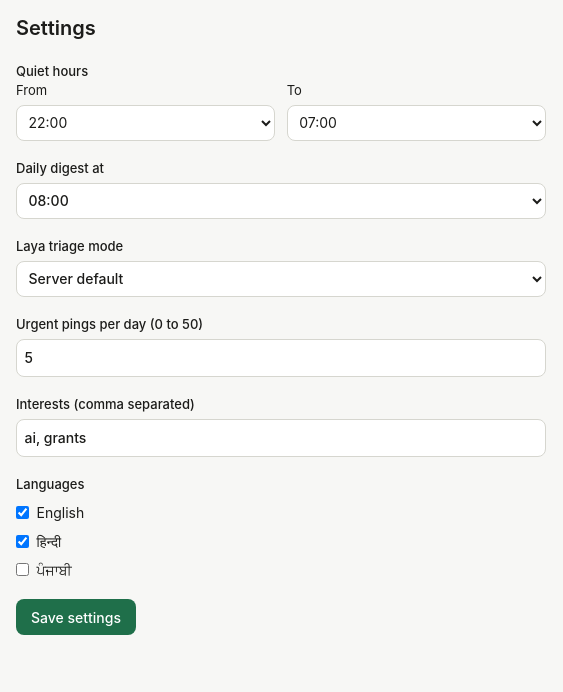
Test case: SettingsForm › offers the server default plus off and shadow, and saves the chosen mode
Expected: the heading "Settings" is shown, [16, 16, 96, 40]
Select "Shadow (Laya scores, answers are not used)" in the dropdown labelled "Laya triage mode": (281, 278) [16, 260, 546, 296]
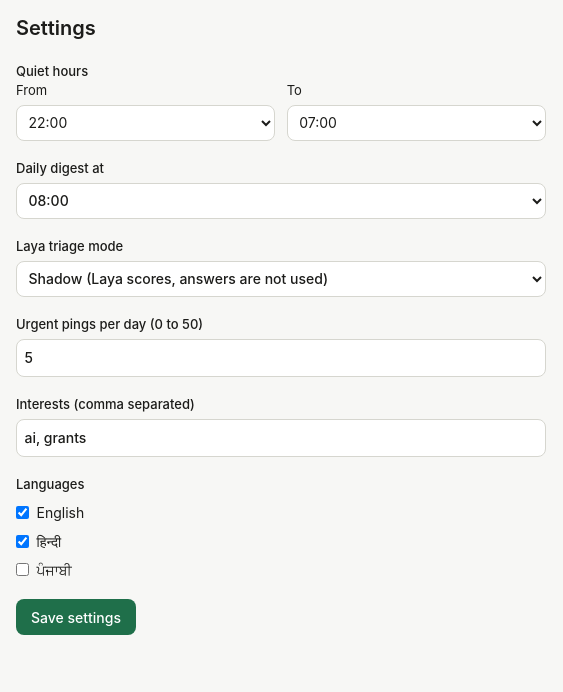
Click the button "Save settings": (76, 617) [16, 599, 136, 635]
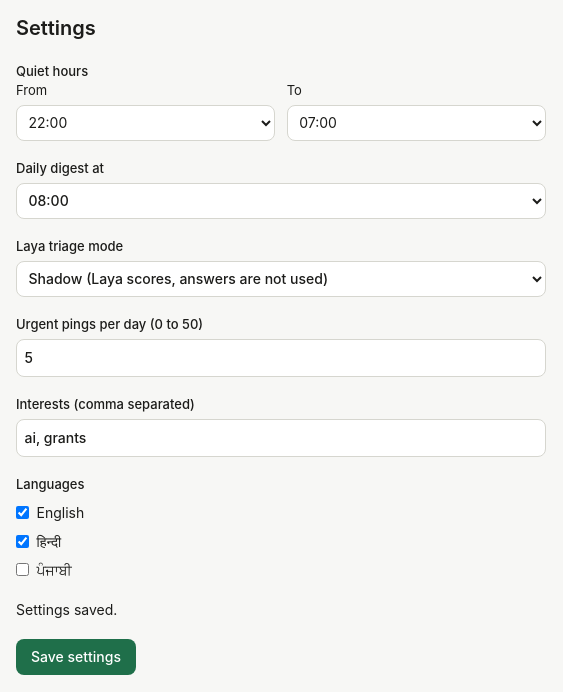
Now the message "Settings saved." is shown, box [16, 601, 117, 618]
